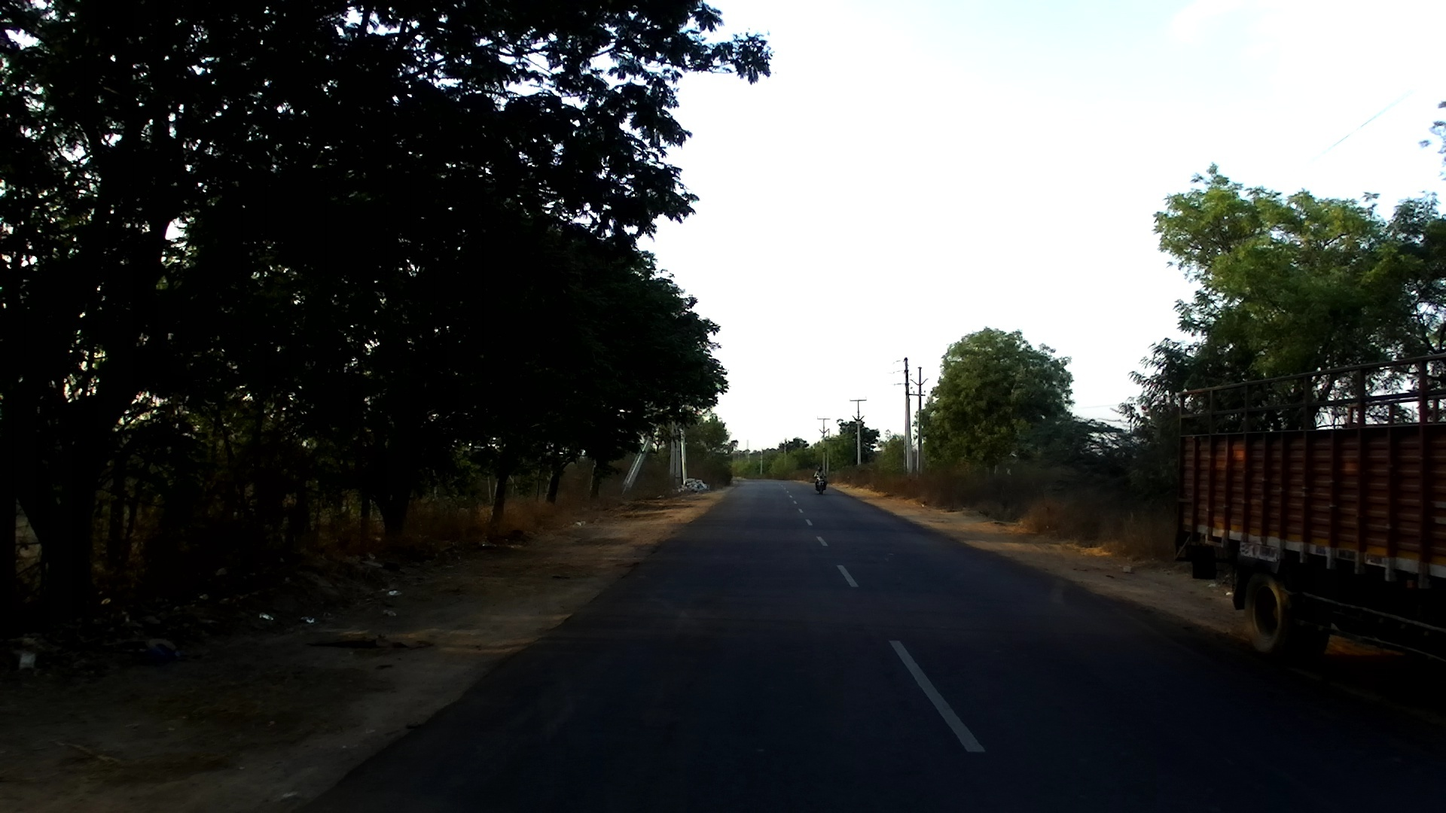motorcycle: (815, 473, 828, 494)
rider: (813, 464, 827, 495)
truck: (1171, 348, 1446, 705)
